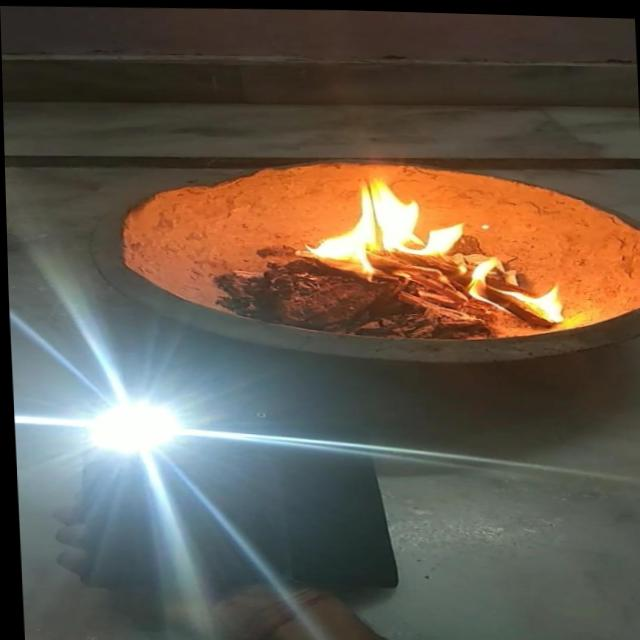fire: (288, 169, 566, 324)
